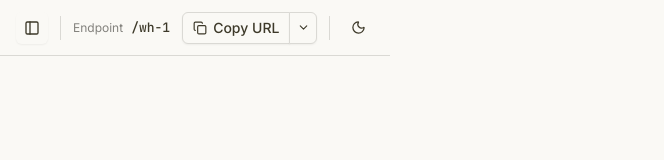
EndpointBar › reports copy unavailable when clipboard is absent
Click the button "Copy URL". click: {"x": 236, "y": 28}
box: x1=182 y1=12 x2=290 y2=44
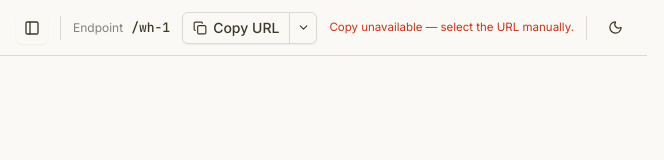
Now the text "Copy unavailable — select the URL manually." is shown, box x1=329 y1=19 x2=574 y2=36
